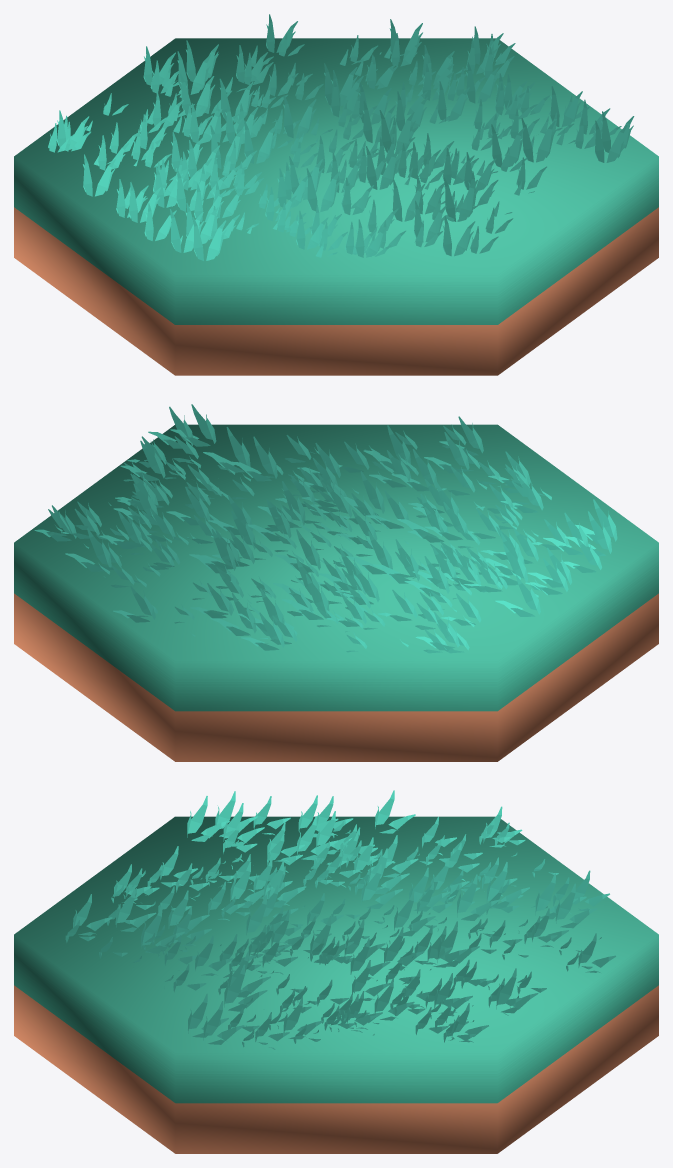
File: hexagono_chao.glb
3 views of the same model, one above another, from view 1: azimuth 30°, elevation 25°; view 2: azimuth 150°, elevation 25°; view 3: azimuth 270°, elevation 25° (orthographic).
Visible parts, largest first — view 1: grass.001, grass; view 2: grass.001, grass; view 3: grass.001, grass.
Part boxes in pixels (x1=…): grass.001: x1=14, y1=38, x2=658, y2=375; grass: x1=48, y1=14, x2=634, y2=260; grass.001: x1=14, y1=424, x2=658, y2=761; grass: x1=34, y1=404, x2=617, y2=653; grass.001: x1=14, y1=816, x2=658, y2=1153; grass: x1=65, y1=790, x2=615, y2=1049.
Size of the model in its own units: 1 by 0.2767 by 1.15.
2 materials, 2 textured.
